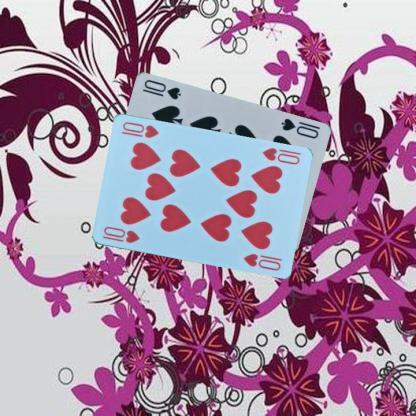10h: (259, 144, 301, 166), (101, 224, 140, 246)
10s: (277, 116, 320, 140)
